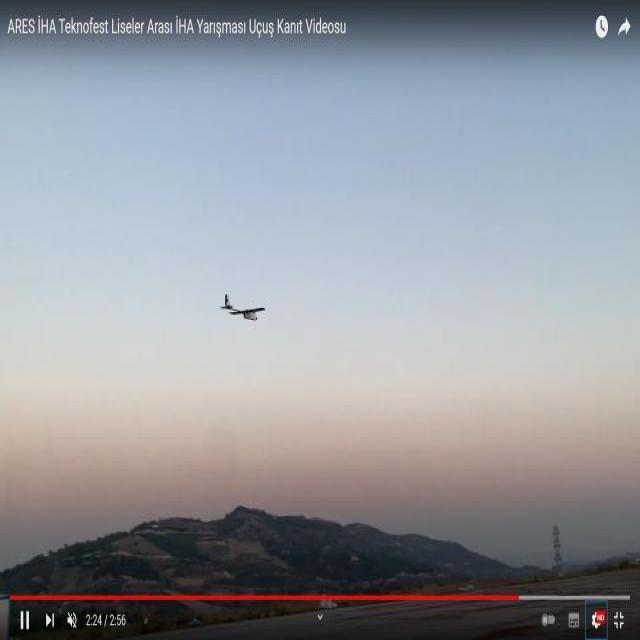UAV: (208, 278, 286, 354)
